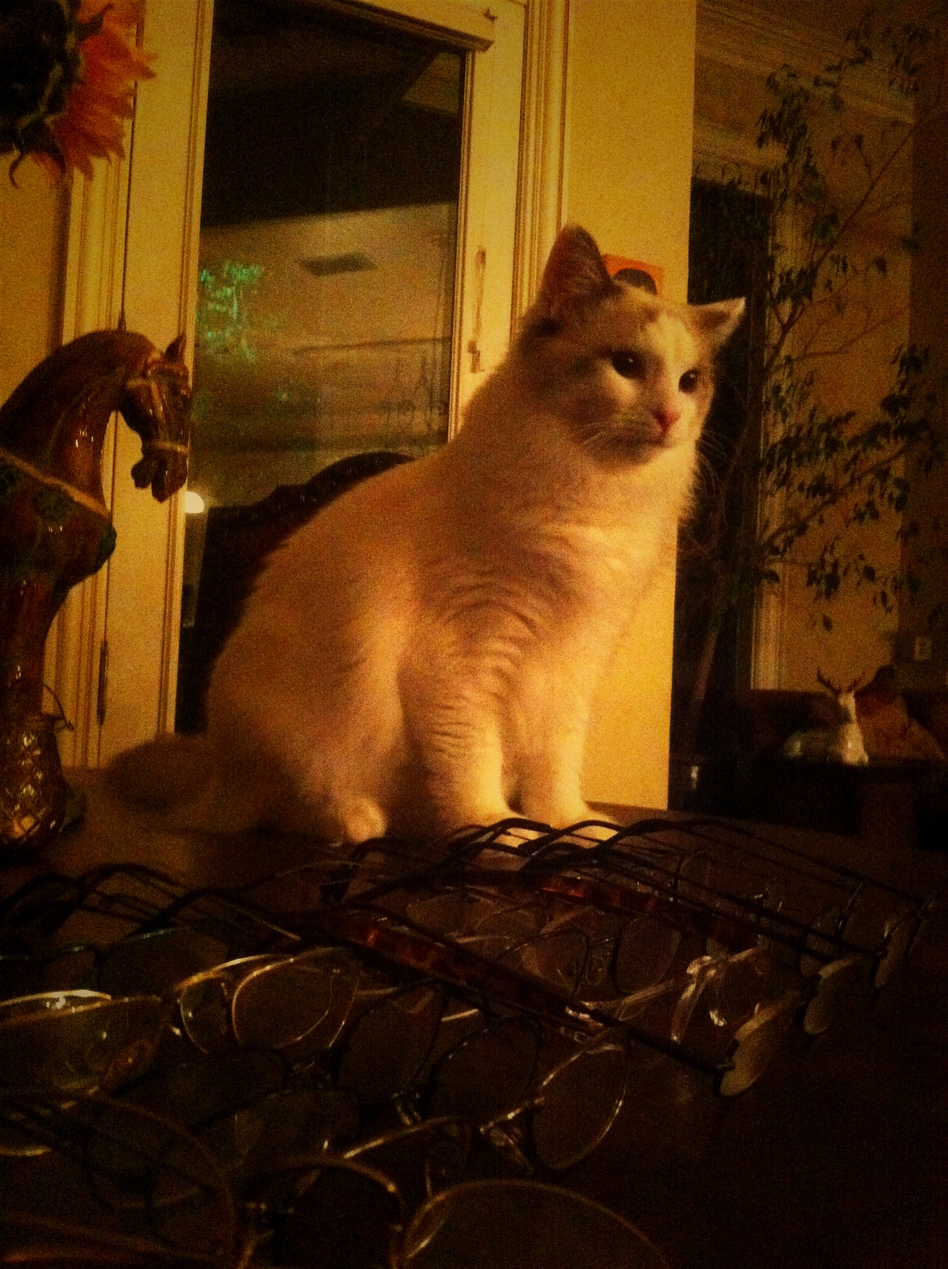cat: (99, 218, 747, 882)
